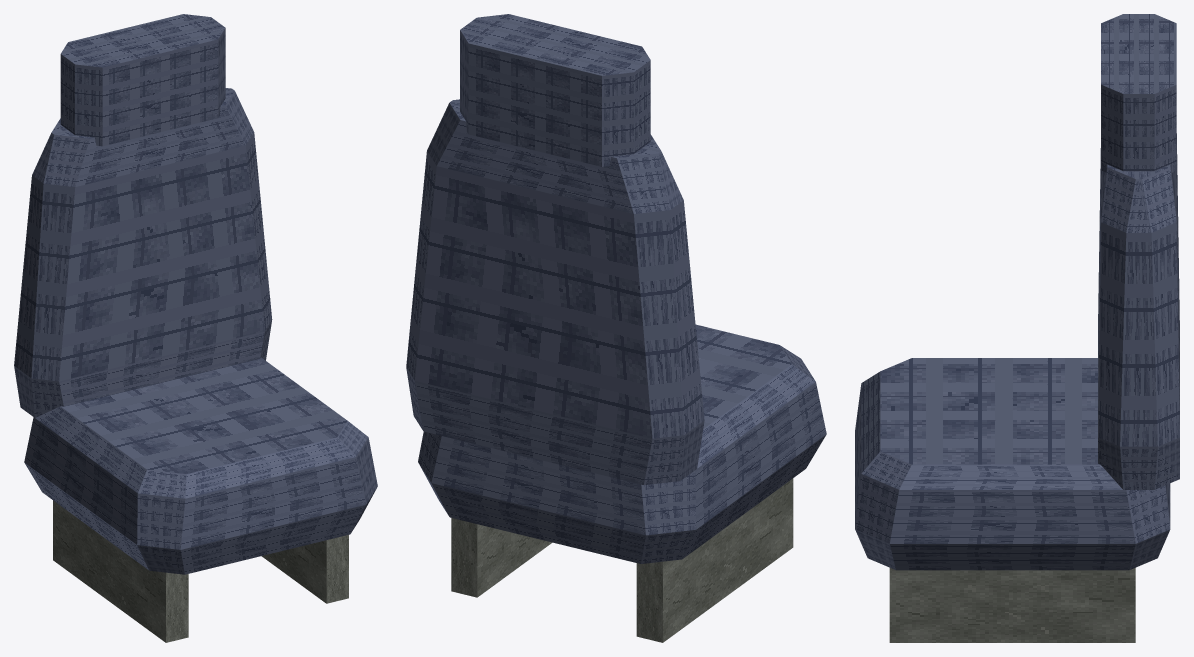
Rendered from car_seat.glb.
3 views of the same model, side by side, from view 1: azimuth 30°, elevation 25°; view 2: azimuth 150°, elevation 25°; view 3: azimuth 270°, elevation 25° (orthographic). The views are drawn at different scales.
Visible parts, largest first — view 1: Body; view 2: Body; view 3: Body.
Part boxes in pixels (<box>): Body: <box>14,14,377,642</box>; Body: <box>406,14,826,642</box>; Body: <box>855,14,1179,642</box>.
Bounding box in the file's own units: 0.48 × 0.945 × 0.515.
1 material, 1 textured.
